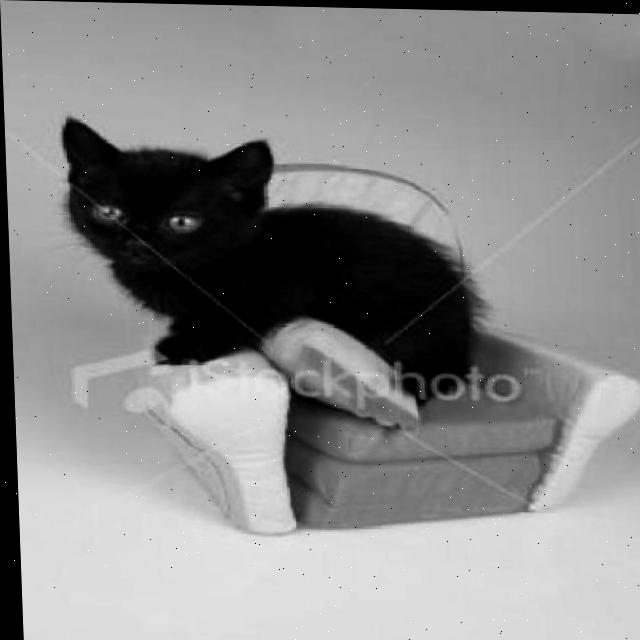Cat: (57, 116, 471, 413)
